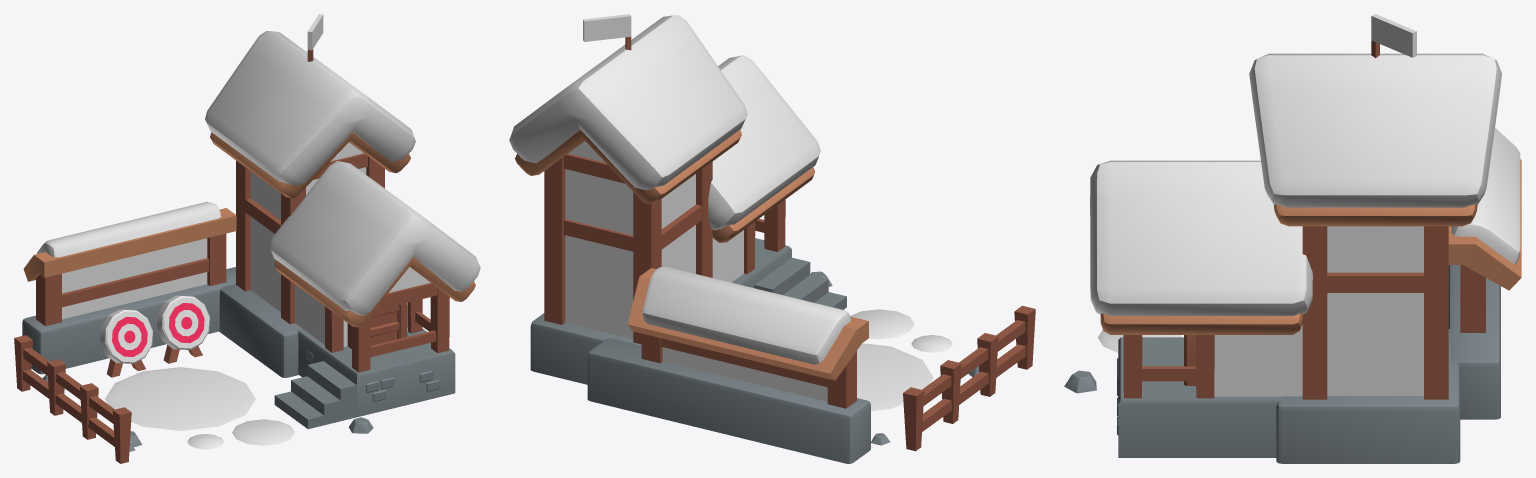
File: archeryrange_snow.gltf.glb
The picture shows the model from 3 angles, left to right: view 1: azimuth 30°, elevation 25°; view 2: azimuth 150°, elevation 25°; view 3: azimuth 270°, elevation 25°; orthographic projection. The views are drawn at different scales.
Visible parts, largest first — view 1: archeryrange_snow; view 2: archeryrange_snow; view 3: archeryrange_snow.
Part boxes in pixels (box(x1,y1,x2,y2)): archeryrange_snow: box(14, 14, 480, 463); archeryrange_snow: box(509, 14, 1035, 463); archeryrange_snow: box(1064, 14, 1521, 463).
Size of the model in its own units: 1.83 by 1.54 by 1.55.
